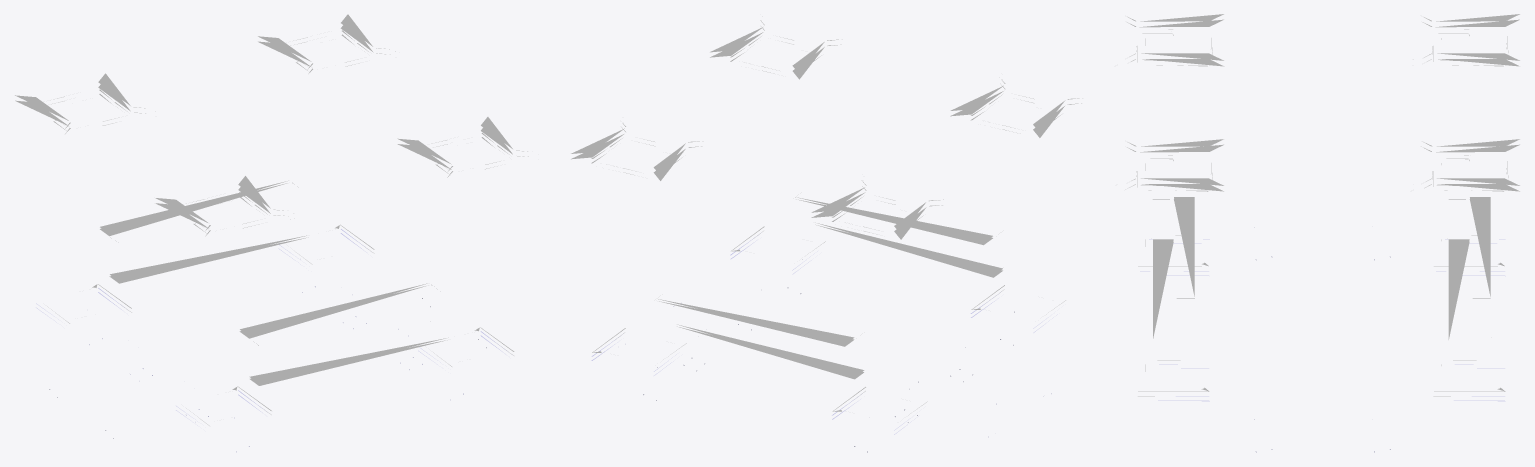
3 views of the same model, side by side, from view 1: azimuth 30°, elevation 25°; view 2: azimuth 150°, elevation 25°; view 3: azimuth 270°, elevation 25° (orthographic). The views are drawn at different scales.
Visible parts, largest first — view 1: F19721000063102000101_001_zb_hb_gestell_01_fa; view 2: F19721000063102000101_001_zb_hb_gestell_01_fa; view 3: F19721000063102000101_001_zb_hb_gestell_01_fa (×2).
Boxes of the visible parts, <box> form: F19721000063102000101_001_zb_hb_gestell_01_fa: <box>15,14,528,425</box>; F19721000063102000101_001_zb_hb_gestell_01_fa: <box>571,16,1082,415</box>; F19721000063102000101_001_zb_hb_gestell_01_fa (×2): <box>1125,14,1519,452</box>.
Size of the model in its own units: 1845 by 1651 by 1174.
